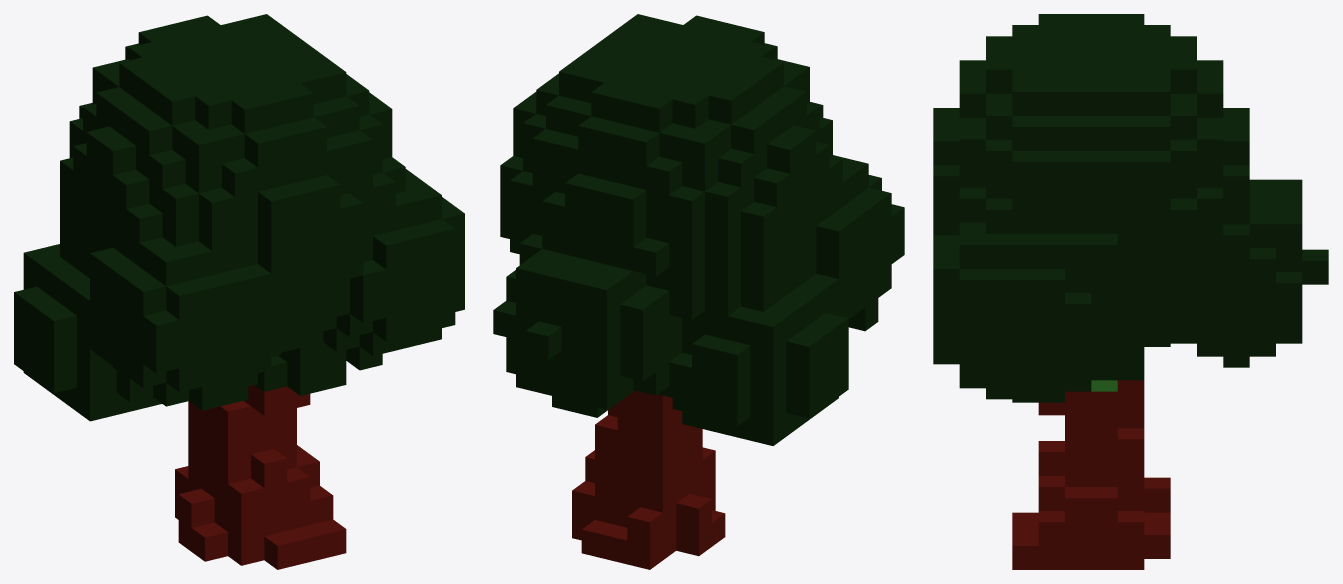
Rendered from tree1FBX.fbx.
3 renders of one model, left to right at view 1: azimuth 30°, elevation 25°; view 2: azimuth 150°, elevation 25°; view 3: azimuth 270°, elevation 25°, orthographic.
Visible parts, largest first — view 1: Tree1Mesh; view 2: Tree1Mesh; view 3: Tree1Mesh.
Part boxes in pixels (x1=…): Tree1Mesh: x1=14, y1=14, x2=464, y2=569; Tree1Mesh: x1=493, y1=14, x2=904, y2=569; Tree1Mesh: x1=933, y1=14, x2=1328, y2=569.
Size of the model in its own units: 185 by 247 by 185.
